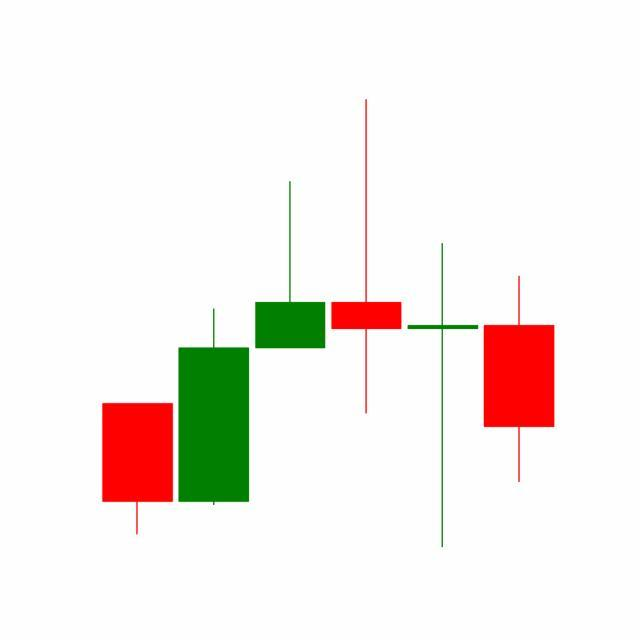Spinning Top: (404, 240, 482, 551)
